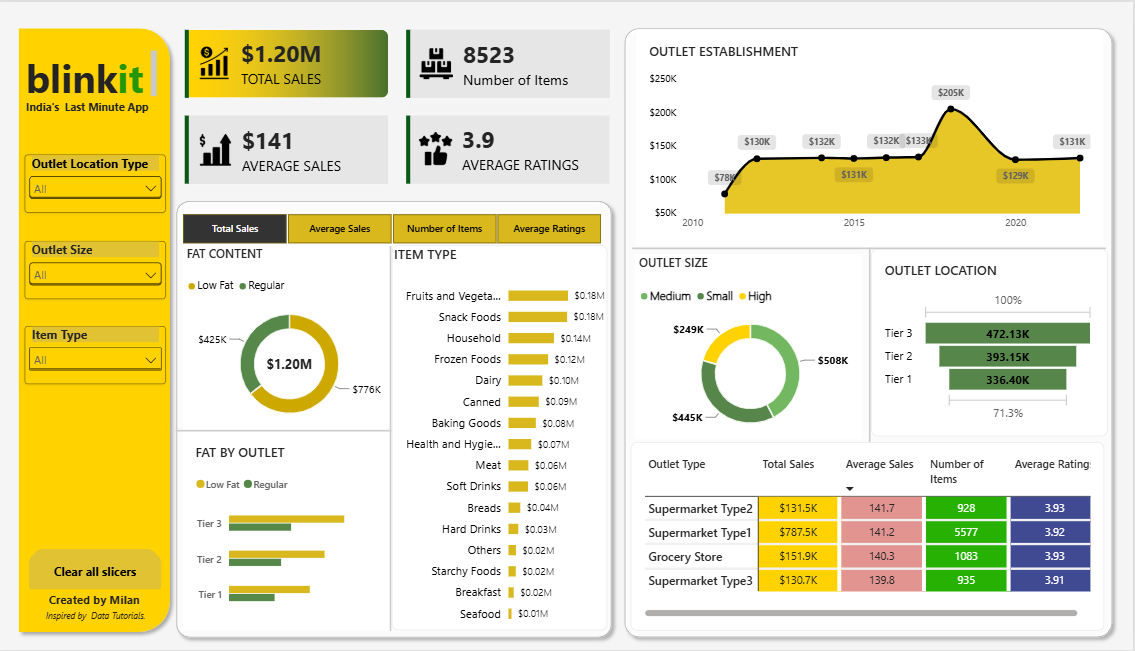

This screenshot's page, from the dashboard's own definition file:
{"tool":"powerbi","page":{"name":"Page 1","canvas":[1400,800],"ordinal":0},"visuals":[{"type":"shape","box":[15,23.3,205,763.3],"z":0},{"type":"textbox","box":[658.3,638.3,211.7,75],"z":1000},{"type":"textbox","box":[33.3,60,161.7,60],"z":2000},{"type":"textbox","box":[33.3,120,161.7,20],"z":3000},{"type":"cardVisual","fields":{"Data":["BlinkIT Grocery Data.Total Sales","BlinkIT Grocery Data.Number of Items","BlinkIT Grocery Data.Average Sales","BlinkIT Grocery Data.Average Ratings"]},"box":[218.5,23.1,546.2,213.8],"z":4000},{"type":"shape","box":[209.2,236.9,555.4,556.9],"z":5000},{"type":"donutChart","title":"FAT CONTENT","fields":{"Y":["BlinkIT Grocery Data.Total Sales"],"Category":["BlinkIT Grocery Data.Item Fat Content"]},"box":[226.2,300,258.5,229.2],"z":6000},{"type":"slicer","fields":{"Values":["Metrics.Metrics"]},"box":[206.7,260,555.4,40],"z":7000},{"type":"clusteredBarChart","title":"FAT BY OUTLET","fields":{"Y":["BlinkIT Grocery Data.Total Sales"],"Category":["BlinkIT Grocery Data.Outlet Location Type"],"Series":["BlinkIT Grocery Data.Item Fat Content"]},"box":[226.2,529.2,258.5,246.2],"z":8000},{"type":"shape","box":[218.5,509.2,266.2,38.5],"z":9000},{"type":"shape","box":[475,301.7,16.7,475],"z":10000},{"type":"barChart","title":"ITEM TYPE","fields":{"Y":["BlinkIT Grocery Data.Total Sales"],"Category":["BlinkIT Grocery Data.Item Type"]},"box":[484.6,300,266.2,475.4],"z":11000},{"type":"shape","box":[763.3,23.3,620,770],"z":12000},{"type":"lineChart","title":"OUTLET ESTABLISHMENT","fields":{"Y":["BlinkIT Grocery Data.Total Sales"],"Category":["BlinkIT Grocery Data.Outlet Establishment Year"]},"box":[786.7,35,576.7,266.7],"z":13000},{"type":"donutChart","title":"OUTLET SIZE","fields":{"Y":["BlinkIT Grocery Data.Total Sales"],"Category":["BlinkIT Grocery Data.Outlet Size"]},"box":[785,311.7,280,228.3],"z":14000},{"type":"shape","box":[781.7,295,585,18.3],"z":15000},{"type":"shape","box":[1066.7,303.3,16.7,240],"z":16000},{"type":"funnel","title":"OUTLET LOCATION","fields":{"Y":["Sum(BlinkIT Grocery Data.Sales)"],"Category":["BlinkIT Grocery Data.Outlet Location Type"]},"box":[1076.5,305.6,292.2,231.1],"z":17000},{"type":"pivotTable","fields":{"Rows":["BlinkIT Grocery Data.Outlet Type"],"Values":["BlinkIT Grocery Data.Total Sales","BlinkIT Grocery Data.Average Sales","BlinkIT Grocery Data.Number of Items","BlinkIT Grocery Data.Average Ratings"]},"box":[779.8,542.7,584.4,232.6],"z":18000},{"type":"slicer","fields":{"Values":["BlinkIT Grocery Data.Outlet Location Type"]},"box":[31.3,187.9,174.4,71.6],"z":19000},{"type":"slicer","fields":{"Values":["BlinkIT Grocery Data.Outlet Size"]},"box":[31.3,295.2,174.4,71.6],"z":20000},{"type":"slicer","fields":{"Values":["BlinkIT Grocery Data.Item Type"]},"box":[31.3,399.6,174.4,71.6],"z":21000},{"type":"actionButton","box":[37.3,675.4,164,50.7],"z":22000},{"type":"textbox","box":[28.3,729.1,178.9,46.2],"z":23000}]}

Visuals, with their boxes in screenshot pixels (x1, y1, x2, y2), scaled from the page's 1400x800 canvas onto the 1135x651 screenshot:
shape: [left=12, top=19, right=178, bottom=640]
textbox: [left=534, top=519, right=705, bottom=580]
textbox: [left=27, top=49, right=158, bottom=98]
textbox: [left=27, top=98, right=158, bottom=114]
cardVisual - BlinkIT Grocery Data.Total Sales x BlinkIT Grocery Data.Number of Items: [left=177, top=19, right=620, bottom=193]
shape: [left=170, top=193, right=620, bottom=646]
"FAT CONTENT" donutChart: [left=183, top=244, right=393, bottom=431]
slicer - Metrics.Metrics: [left=168, top=212, right=618, bottom=244]
"FAT BY OUTLET" clusteredBarChart: [left=183, top=431, right=393, bottom=631]
shape: [left=177, top=414, right=393, bottom=446]
shape: [left=385, top=246, right=399, bottom=632]
"ITEM TYPE" barChart: [left=393, top=244, right=609, bottom=631]
shape: [left=619, top=19, right=1121, bottom=646]
"OUTLET ESTABLISHMENT" lineChart: [left=638, top=28, right=1105, bottom=246]
"OUTLET SIZE" donutChart: [left=636, top=254, right=863, bottom=439]
shape: [left=634, top=240, right=1108, bottom=255]
shape: [left=865, top=247, right=878, bottom=442]
"OUTLET LOCATION" funnel: [left=873, top=249, right=1110, bottom=437]
pivotTable - BlinkIT Grocery Data.Outlet Type x BlinkIT Grocery Data.Total Sales: [left=632, top=442, right=1106, bottom=631]
slicer - BlinkIT Grocery Data.Outlet Location Type: [left=25, top=153, right=167, bottom=211]
slicer - BlinkIT Grocery Data.Outlet Size: [left=25, top=240, right=167, bottom=298]
slicer - BlinkIT Grocery Data.Item Type: [left=25, top=325, right=167, bottom=383]
actionButton: [left=30, top=550, right=163, bottom=591]
textbox: [left=23, top=593, right=168, bottom=631]
